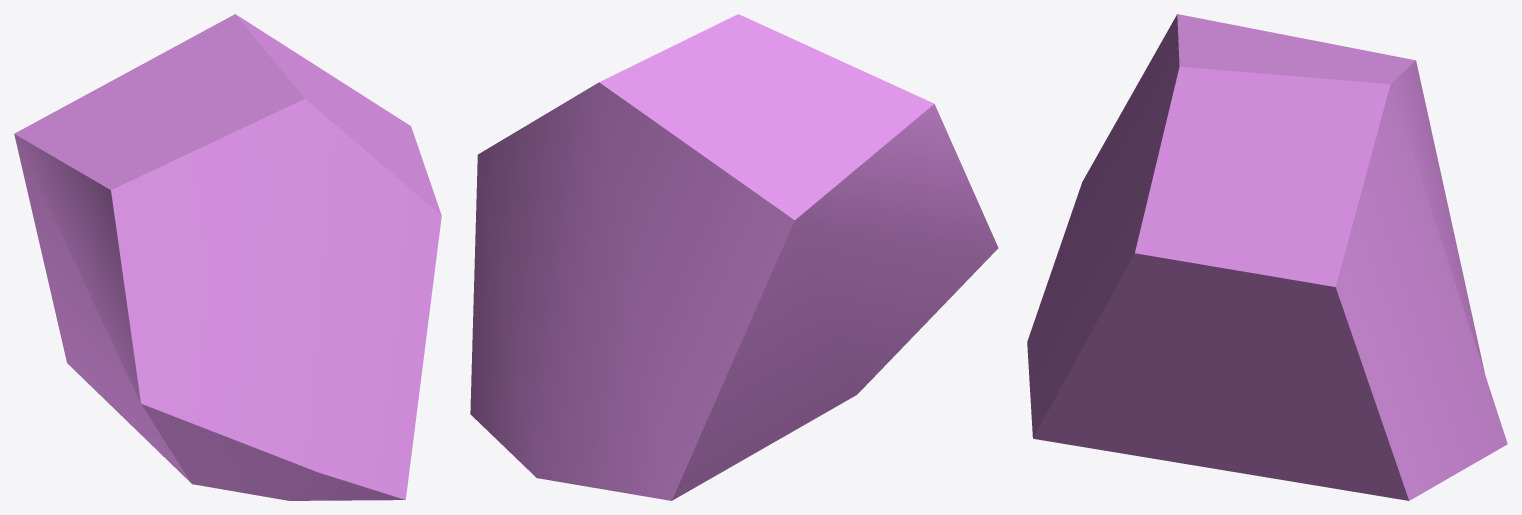
The model's file is Rock02.FBX.
3 renders of one model, left to right at view 1: azimuth 30°, elevation 25°; view 2: azimuth 150°, elevation 25°; view 3: azimuth 270°, elevation 25°, orthographic.
Parts seen in each view (by area): view 1: Box003; view 2: Box003; view 3: Box003.
Part boxes in pixels (x1,y1,x2,y2): Box003: (14,14,441,500); Box003: (470,14,998,500); Box003: (1027,14,1507,500).
Size of the model in its own units: 23.94 by 20.52 by 24.96.
